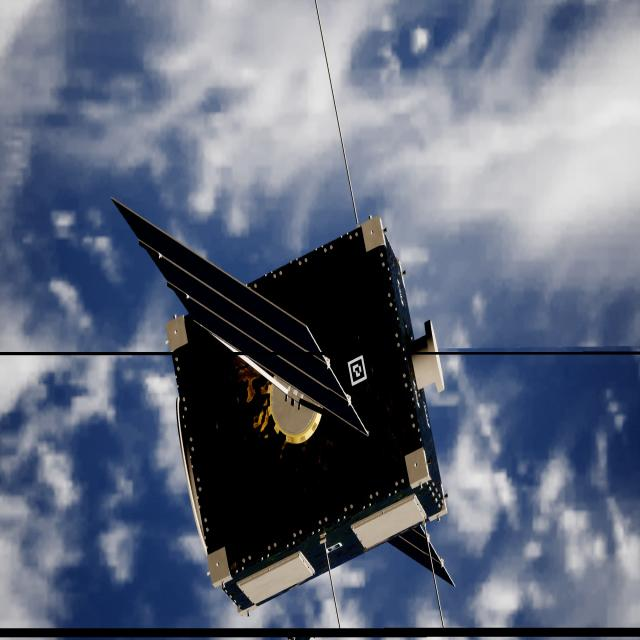satellite: (112, 201, 454, 611)
